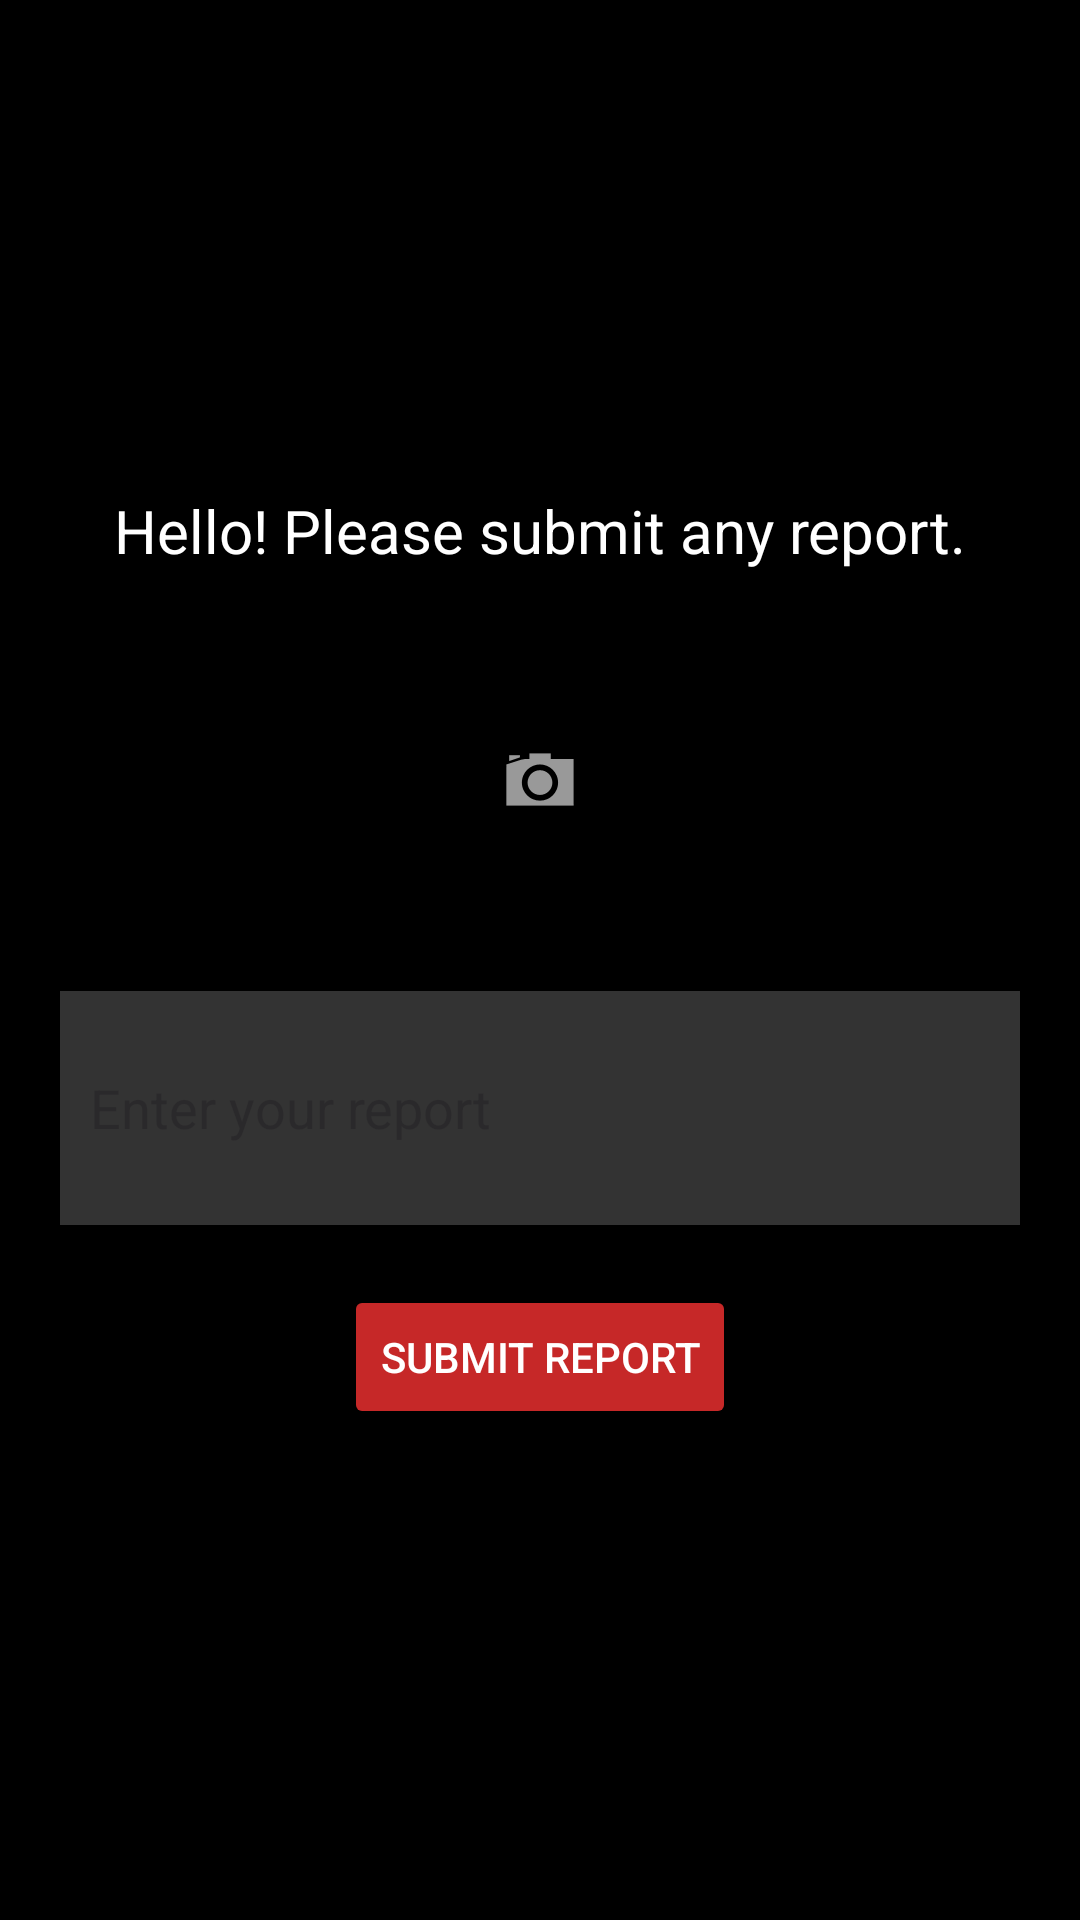

Icon bounding boxes for this 1080x1920 phone screenshot, format (x1, y1, x2, y2):
Select Image: (506, 753, 574, 806)
